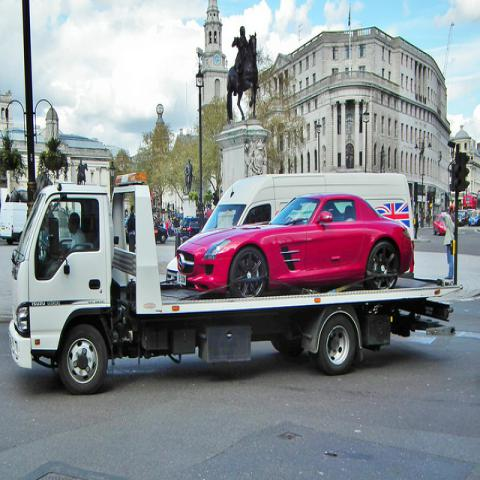car: (169, 189, 412, 293), (180, 216, 208, 237), (154, 217, 168, 243), (433, 214, 447, 236), (468, 210, 479, 227), (458, 211, 469, 226)
truck: (6, 172, 464, 388), (163, 161, 416, 288), (0, 187, 28, 245)
